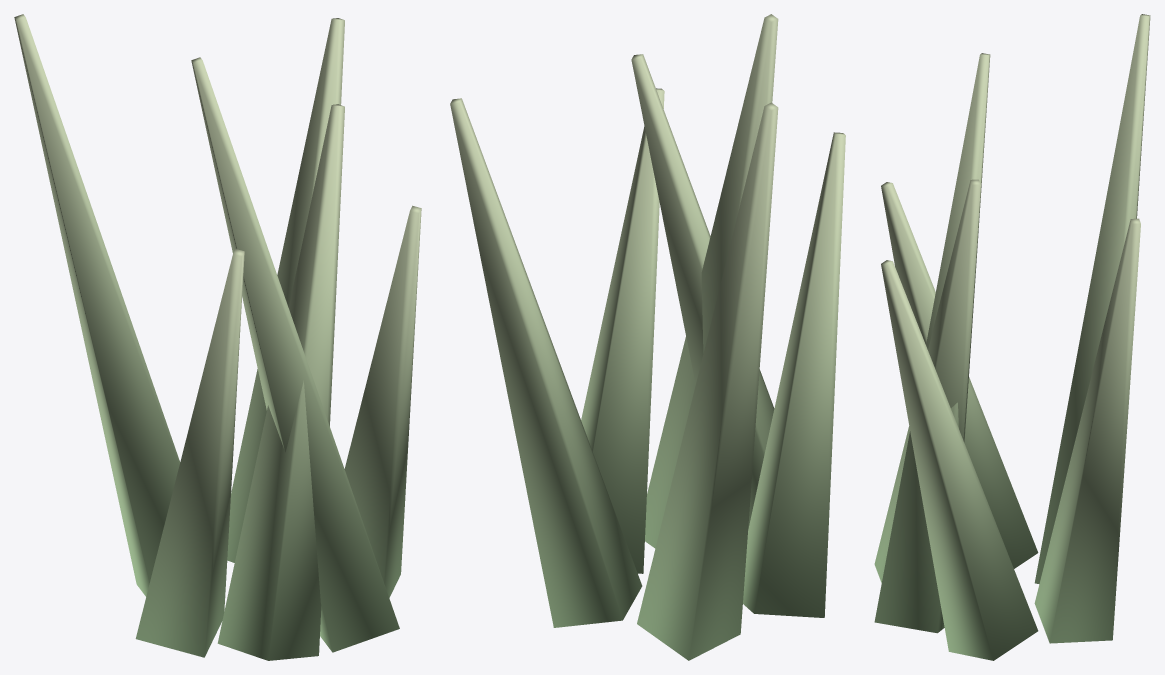
File: grass.glb
3 renders of one model, left to right at view 1: azimuth 30°, elevation 25°; view 2: azimuth 150°, elevation 25°; view 3: azimuth 270°, elevation 25°, orthographic. The views are drawn at different scales.
Visible parts, largest first — view 1: Canopy; view 2: Canopy; view 3: Canopy.
Boxes of the visible parts, bbox=[...] form: Canopy: bbox=[14, 14, 421, 660]; Canopy: bbox=[450, 14, 845, 660]; Canopy: bbox=[874, 14, 1150, 660].
Bounding box in the file's own units: 0.2191 × 0.3765 × 0.1791.
